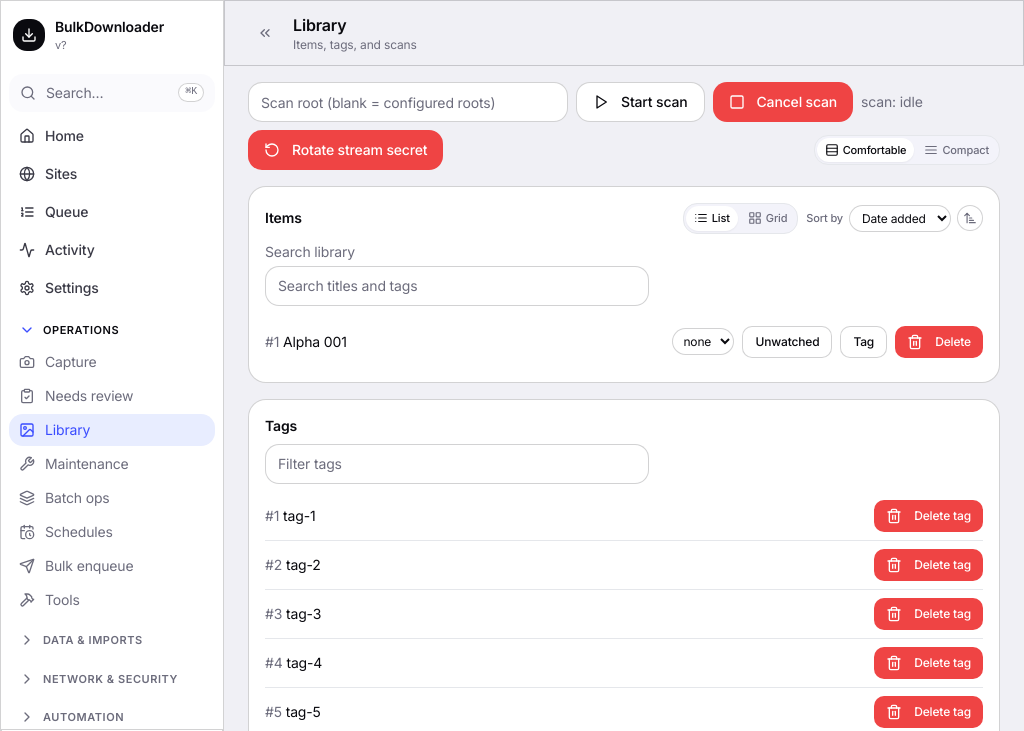
it: library-fix F6 the Tags card renders a window, not every tag › 5 000 tags render at most 200 rows, and the filter reaches the rest
The image size is (1024, 731).
Expected: the text "tag-1" is shown, left=283, top=506, right=315, bottom=524
Type "tag-4999" into the search field labelled "Filter tags" at [457, 464], box left=265, top=444, right=649, bottom=484
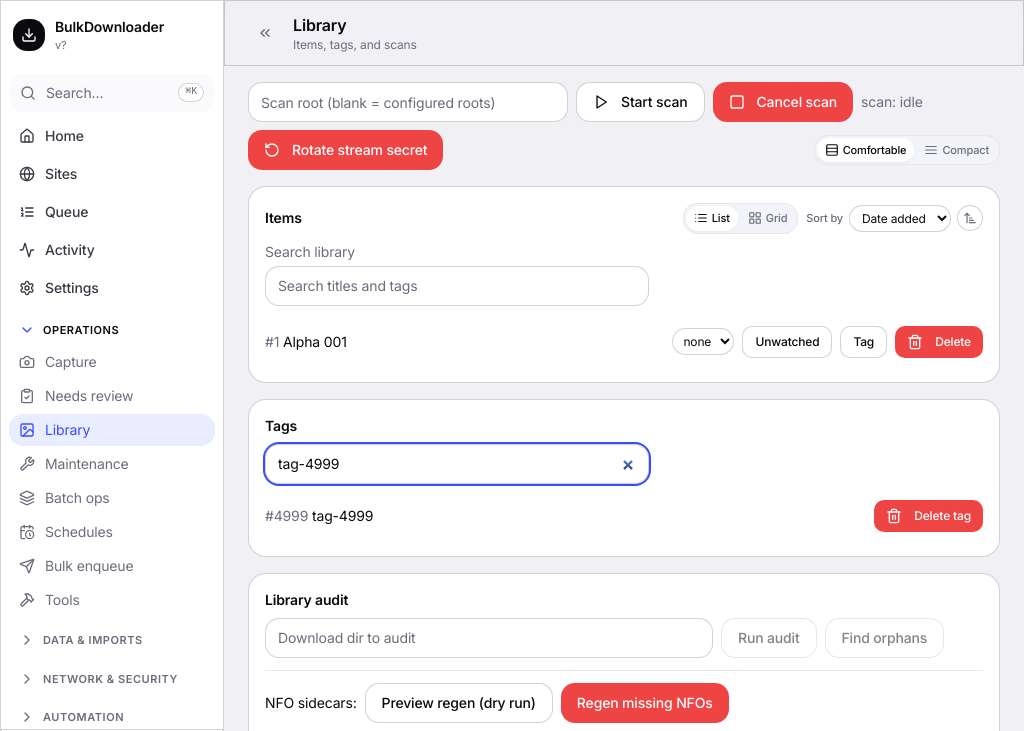
Now the text "tag-4999" is shown, box left=312, top=506, right=373, bottom=524
